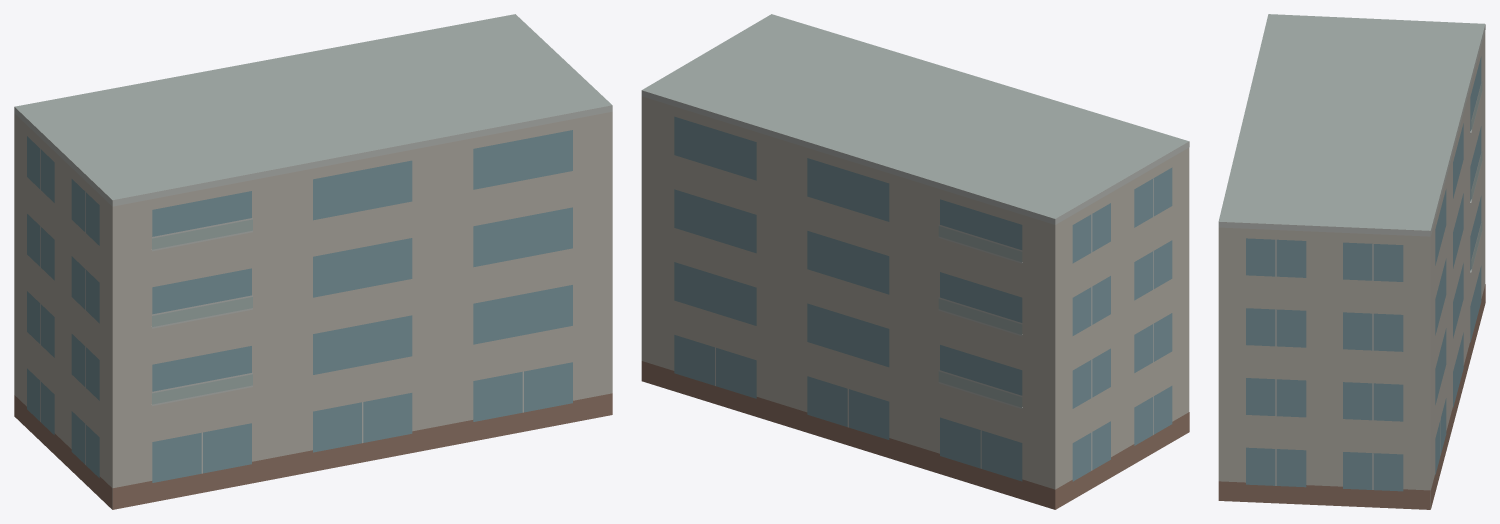
The model's file is survey-upis-32564225.glb.
3 views of the same model, side by side, from view 1: azimuth 30°, elevation 25°; view 2: azimuth 150°, elevation 25°; view 3: azimuth 270°, elevation 25° (orthographic). The views are drawn at different scales.
Visible parts, largest first — view 1: survey-upis-32564225.tmp; view 2: survey-upis-32564225.tmp; view 3: survey-upis-32564225.tmp.
Boxes of the visible parts, x1,y1,x2,y2 form: survey-upis-32564225.tmp: [14, 14, 612, 509]; survey-upis-32564225.tmp: [641, 14, 1189, 509]; survey-upis-32564225.tmp: [1218, 14, 1485, 509].
Bounding box in the file's own units: 19.67 × 11.8 × 10.24.
